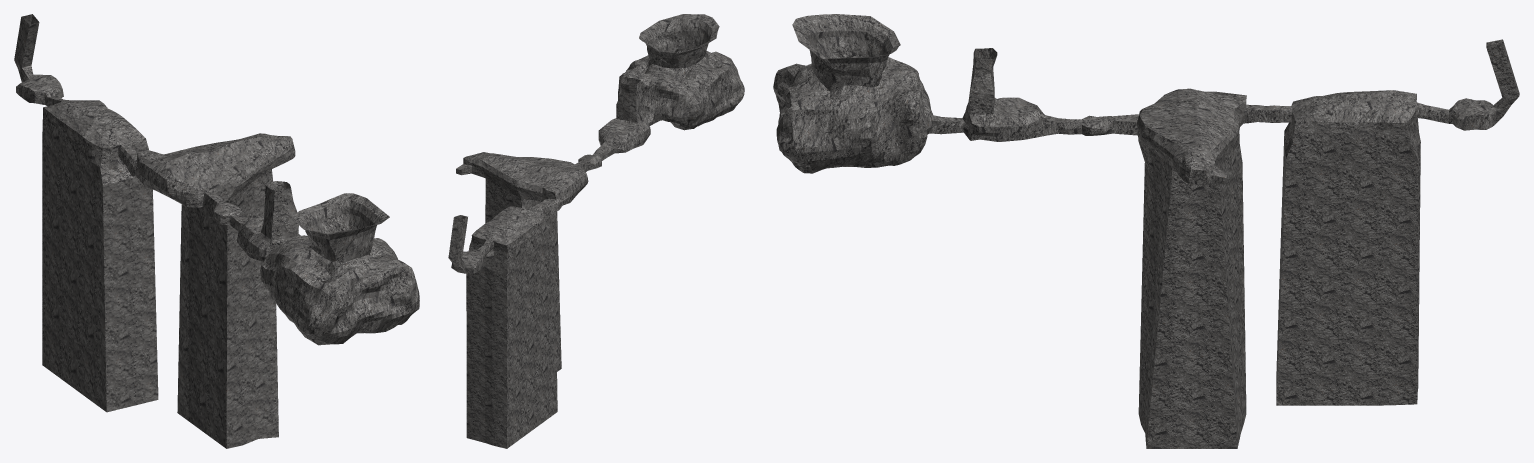
The model's file is caveV2.glb.
3 renders of one model, left to right at view 1: azimuth 30°, elevation 25°; view 2: azimuth 150°, elevation 25°; view 3: azimuth 270°, elevation 25°, orthographic. The views are drawn at different scales.
Parts seen in each view (by area): view 1: Cube.015; view 2: Cube.015; view 3: Cube.015.
Boxes of the visible parts, box(x1,y1,x2,y2) form: Cube.015: box(14, 14, 419, 448); Cube.015: box(448, 14, 744, 448); Cube.015: box(773, 14, 1519, 448).
Size of the model in its own units: 97.47 by 190 by 337.
1 material, 1 textured.
